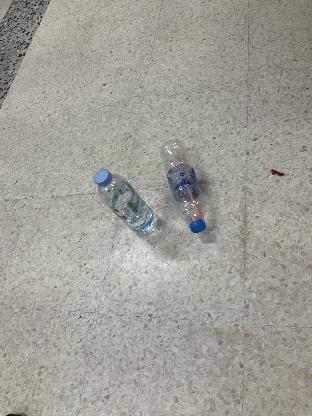Plastic Bottle: (160, 140, 209, 234), (94, 168, 158, 238)
